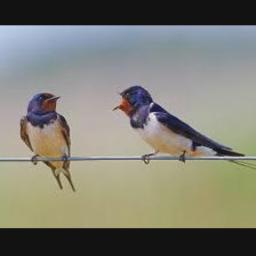Swallow: (110, 85, 256, 173), (21, 90, 74, 192)
